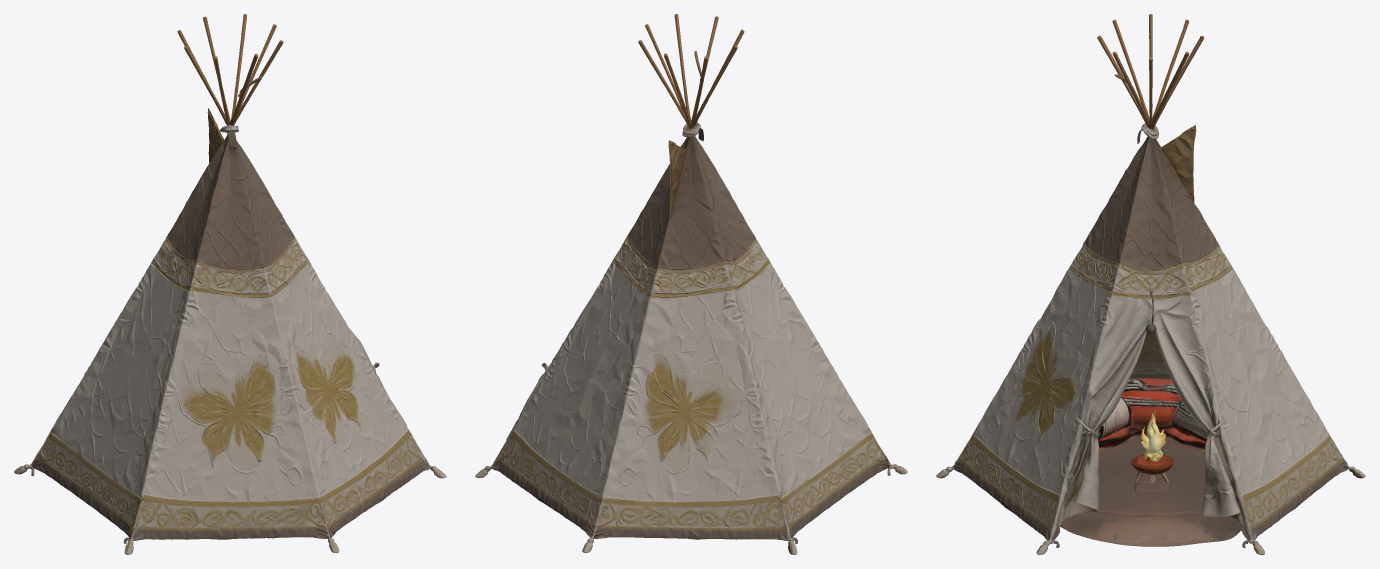
Rendered from tipi.yellowbutterfly.glb.
3 renders of one model, left to right at view 1: azimuth 30°, elevation 25°; view 2: azimuth 150°, elevation 25°; view 3: azimuth 270°, elevation 25°, orthographic.
Parts seen in each view (by area): view 1: tripo_node_c34ee706-acd6-4dc8-b86d-f25055d22140; view 2: tripo_node_c34ee706-acd6-4dc8-b86d-f25055d22140; view 3: tripo_node_c34ee706-acd6-4dc8-b86d-f25055d22140.
Part boxes in pixels (box(x1,y1,x2,y2)): tripo_node_c34ee706-acd6-4dc8-b86d-f25055d22140: box(14, 14, 446, 554); tripo_node_c34ee706-acd6-4dc8-b86d-f25055d22140: box(475, 14, 907, 554); tripo_node_c34ee706-acd6-4dc8-b86d-f25055d22140: box(936, 14, 1365, 554).
Bounding box in the file's own units: 0.763 × 1 × 0.8827.
1 material, 1 textured.
